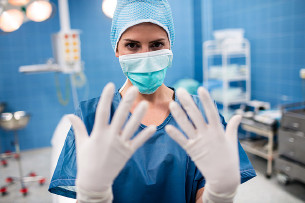face_mask: (118, 26, 172, 94)
